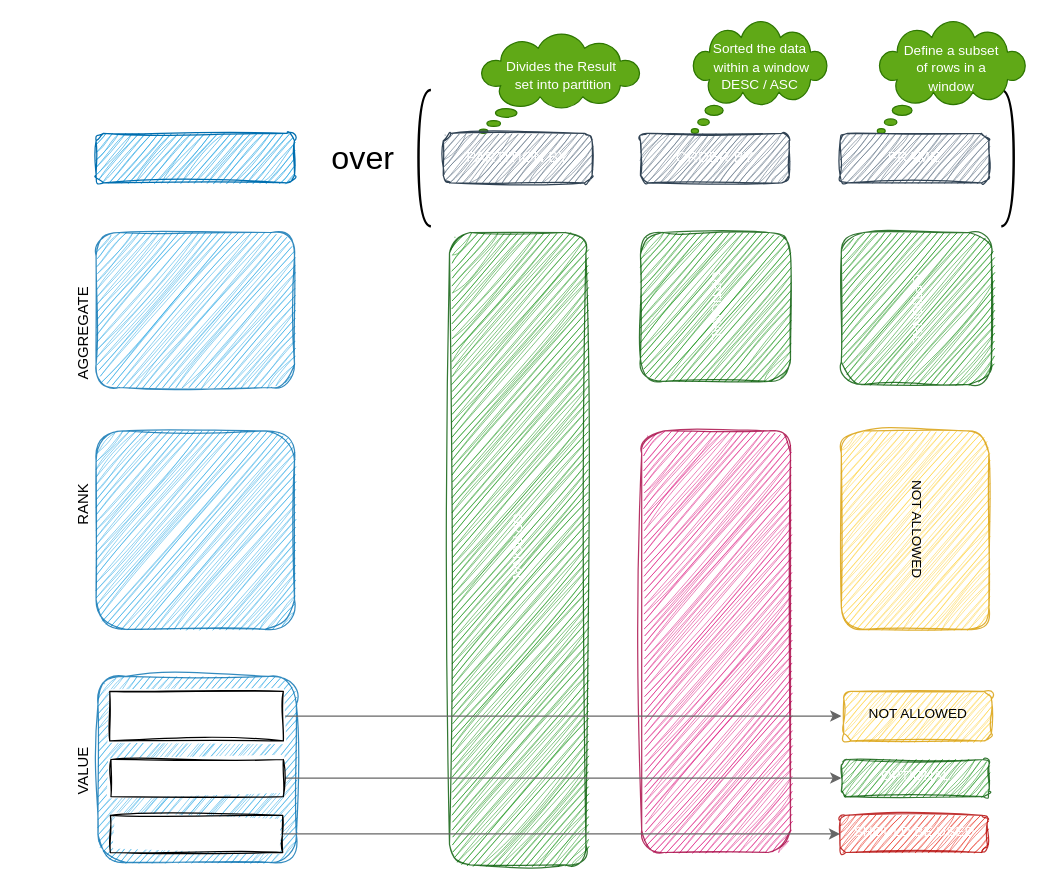
The diagram is 1048 pixels wide and 887 high, and some of its shapes have lost their labels. Each missing label, with the box of its shape:
COUNT(exp) SUM(exp) AVG(exp) MIN(exp) MAX(exp): (95, 231, 294, 388)
FIRST_VALUE(): (110, 758, 283, 797)
LAST_VALUE(): (109, 814, 283, 852)
LEAD(exp, offset, default) LAG(exp, offset, default): (108, 690, 283, 741)
REQUIRED: (640, 430, 790, 852)
ROW_NUMBER() RANK() DENSE_RANK() CUME_DIST() PERCENT_RANK() NTILE(n): (95, 430, 294, 629)
WINDOWS FUNCTION: (95, 132, 294, 183)
